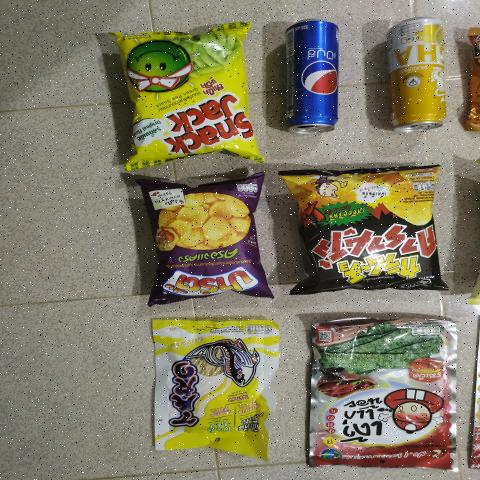karamujo: (284, 175, 437, 290)
party_purple: (142, 180, 256, 299)
pepsi_blue: (278, 19, 346, 141)
singha_yellow: (382, 18, 450, 130)
snack_jack: (121, 37, 256, 152)
taokaenoi: (310, 322, 457, 466)
taro_yellow: (151, 316, 270, 458)
